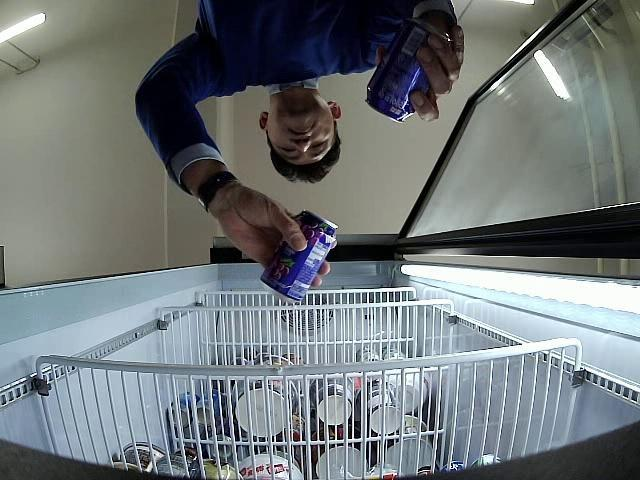14_welchsGrape: (366, 18, 448, 123), (261, 211, 338, 301)
